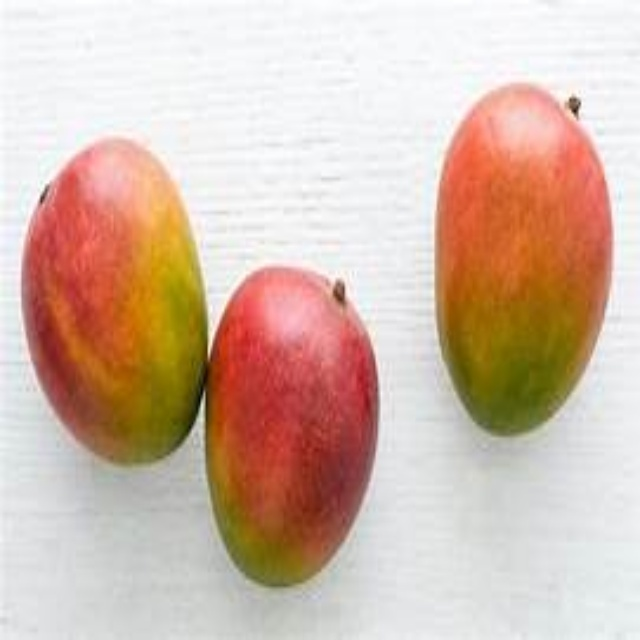mango: (433, 84, 612, 438), (203, 258, 386, 590), (24, 136, 203, 466)
